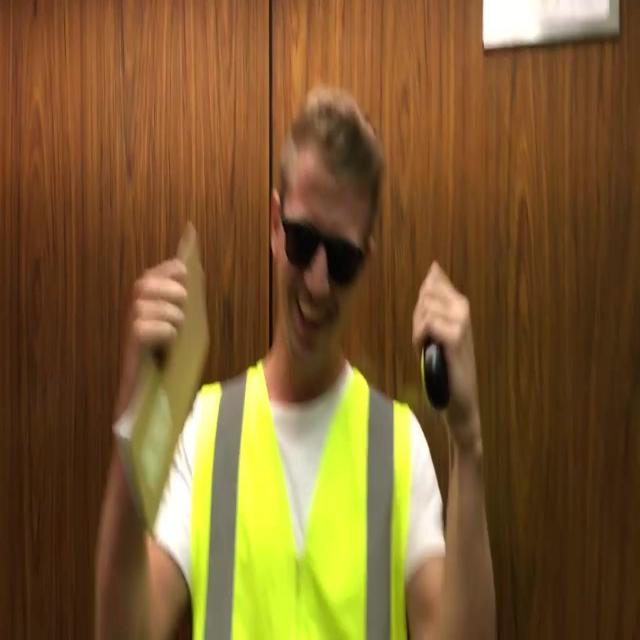Reflective-Jacket: (179, 352, 422, 640)
